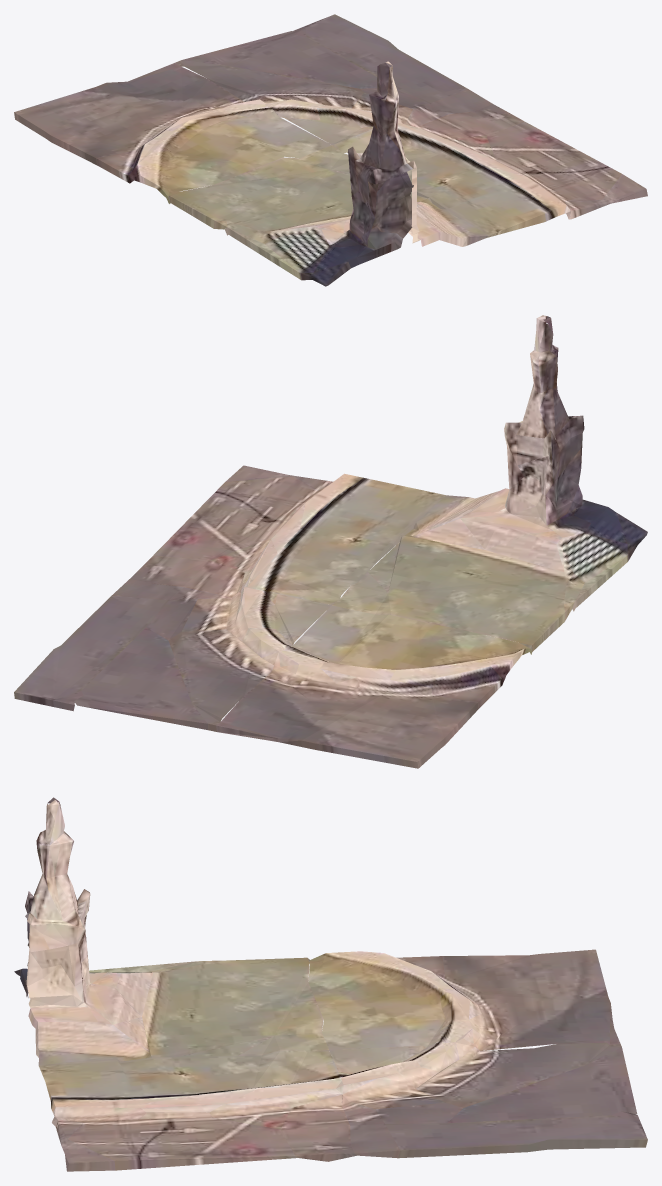
The picture shows the model from 3 angles, top to bottom: view 1: azimuth 30°, elevation 25°; view 2: azimuth 150°, elevation 25°; view 3: azimuth 270°, elevation 25°; orthographic projection. The views are drawn at different scales.
Visible parts, largest first — view 1: Mesh_0; view 2: Mesh_0; view 3: Mesh_0.
Part boxes in pixels (x1,y1,x2,y2): Mesh_0: (14,14,647,286); Mesh_0: (14,315,647,768); Mesh_0: (14,797,647,1171).
Bounding box in the file's own units: 33.3 × 16.82 × 41.52.
Materials: 1 (1 with a texture image).
